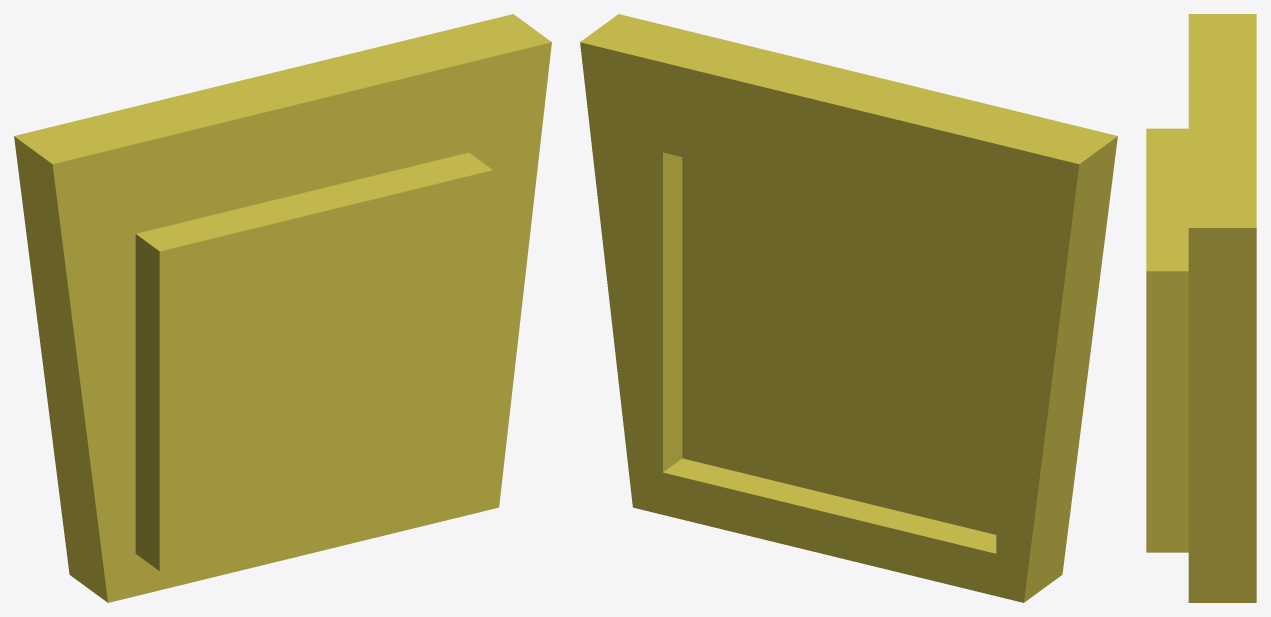
The model's file is FREC4X4YL End Cap.glb.
The picture shows the model from 3 angles, left to right: view 1: azimuth 30°, elevation 25°; view 2: azimuth 150°, elevation 25°; view 3: azimuth 270°, elevation 25°; orthographic projection. The views are drawn at different scales.
Visible parts, largest first — view 1: Mesh_Mesh_head_geo.001_lambert2SG.001; view 2: Mesh_Mesh_head_geo.001_lambert2SG.001; view 3: Mesh_Mesh_head_geo.001_lambert2SG.001.
Boxes of the visible parts, x1=… form: Mesh_Mesh_head_geo.001_lambert2SG.001: x1=14, y1=14, x2=551, y2=602; Mesh_Mesh_head_geo.001_lambert2SG.001: x1=580, y1=14, x2=1117, y2=602; Mesh_Mesh_head_geo.001_lambert2SG.001: x1=1146, y1=14, x2=1256, y2=602.
Size of the model in its own units: 18.26 by 15.81 by 3.97.
